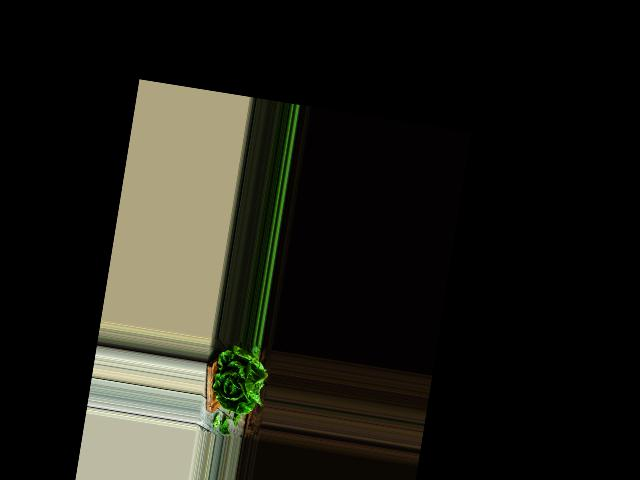lettuce: (206, 341, 270, 414)
